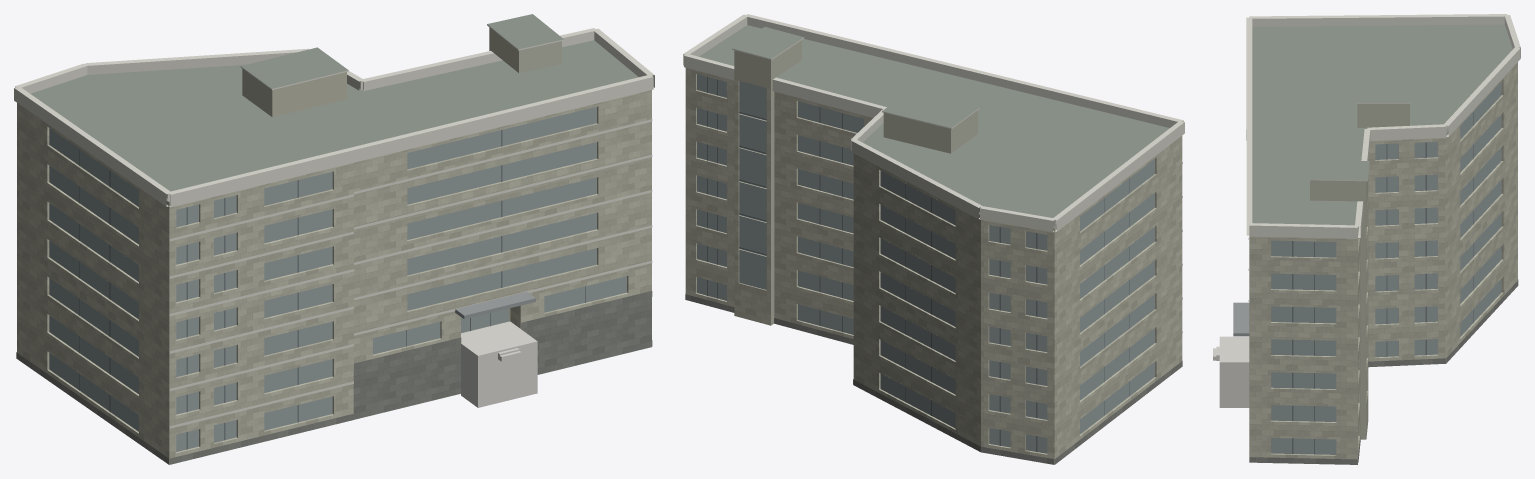
3 views of the same model, side by side, from view 1: azimuth 30°, elevation 25°; view 2: azimuth 150°, elevation 25°; view 3: azimuth 270°, elevation 25° (orthographic). The views are drawn at different scales.
Visible parts, largest first — view 1: b113__wall, b113__glass, b113__roof, b113__trim, b113__base, b113__entranceStair, b113__wall2, b113__frame, b113__canopy; view 2: b113__wall, b113__glass, b113__roof, b113__trim, b113__wall2, b113__base, b113__frame; view 3: b113__wall, b113__roof, b113__glass, b113__trim, b113__wall2, b113__entranceStair, b113__base, b113__frame, b113__canopy.
Part boxes in pixels (x1,y1,x2,y2): b113__wall: (17,90,651,464); b113__glass: (49,107,626,451); b113__roof: (30,14,651,464); b113__trim: (14,24,654,428); b113__base: (16,291,652,464); b113__entranceStair: (461,321,537,407); b113__wall2: (242,27,561,117); b113__frame: (79,130,585,449); b113__canopy: (455,292,535,319); b113__wall: (685,68,1182,464); b113__glass: (697,74,1154,453); b113__roof: (699,25,1169,227); b113__trim: (683,14,1184,332); b113__wall2: (734,40,977,325); b113__base: (685,294,1182,464); b113__frame: (707,77,1129,451); b113__wall: (1249,62,1517,461); b113__roof: (1252,24,1512,234); b113__glass: (1271,81,1501,454); b113__trim: (1246,14,1520,301); b113__wall2: (1310,104,1409,439); b113__entranceStair: (1213,336,1249,407); b113__base: (1249,279,1518,464); b113__frame: (1292,112,1473,454); b113__canopy: (1233,302,1249,336).
Bounding box in the file's own units: 50.22 × 28.67 × 30.53.
Materials: 10 (2 with a texture image).
